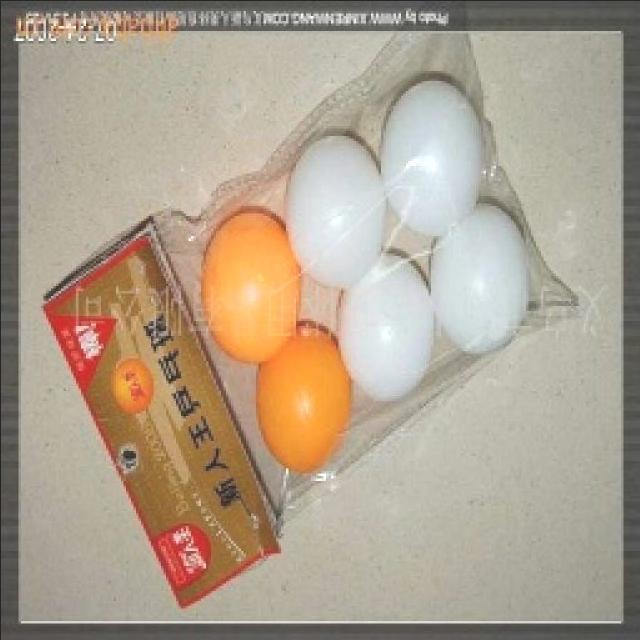oball: (200, 208, 300, 364), (255, 328, 349, 472)
